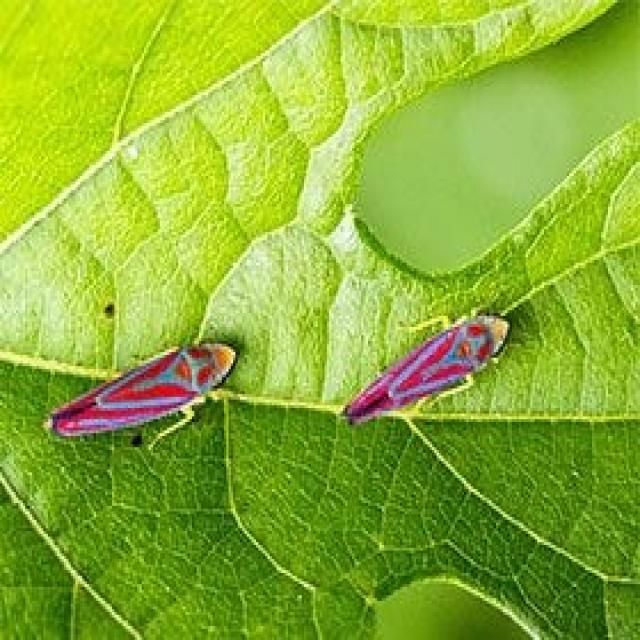Yechan: (319, 293, 526, 449), (29, 328, 230, 464)
